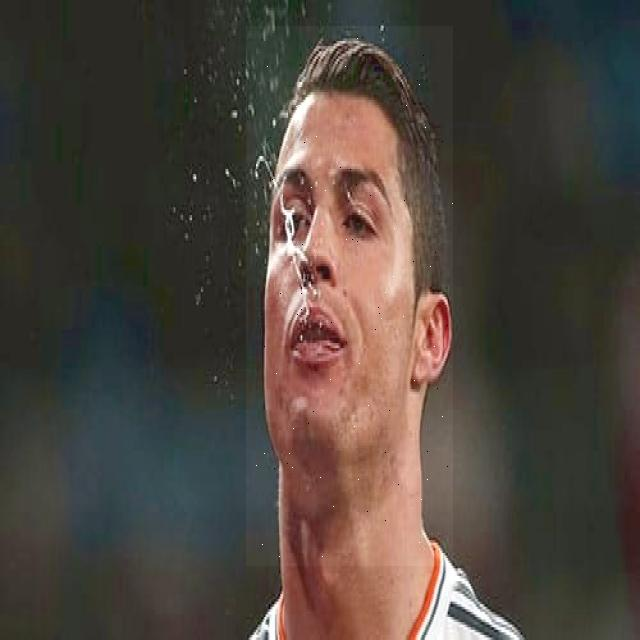Spitting: (246, 26, 453, 566)
